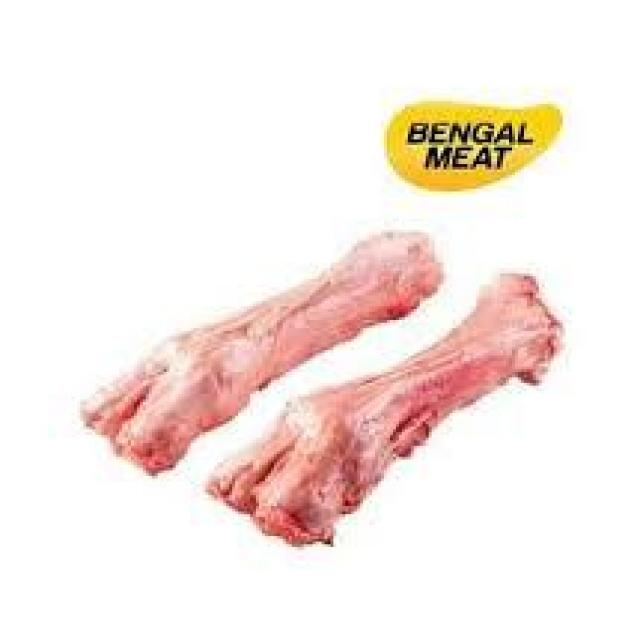beef: (126, 235, 503, 497)
